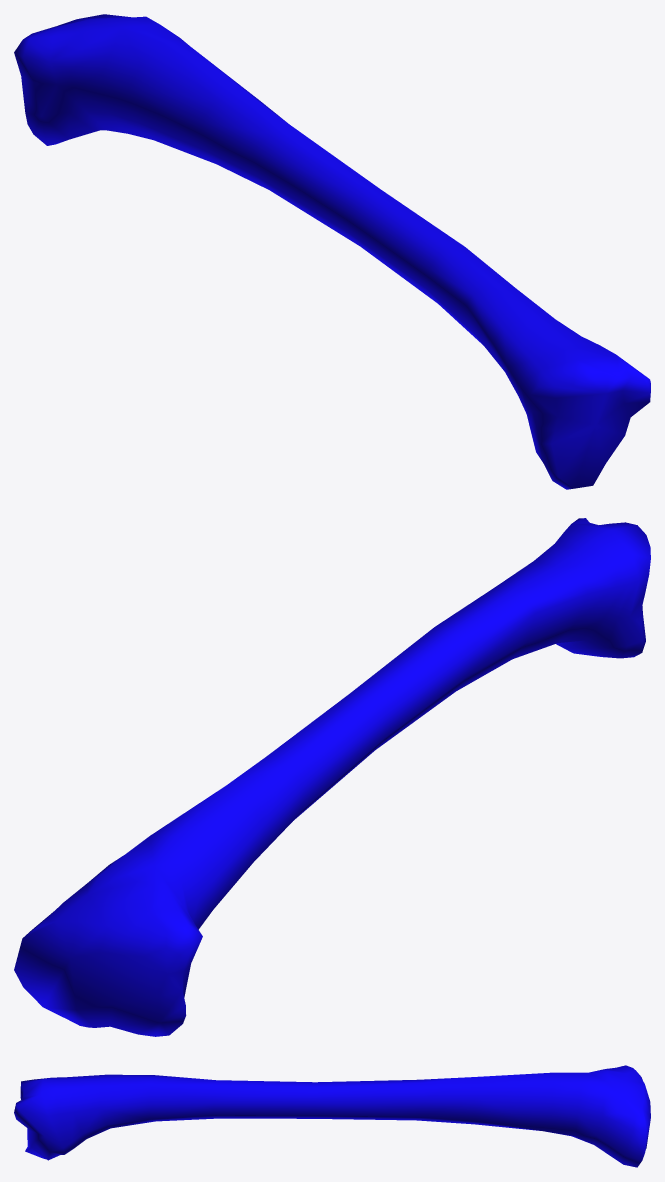
The model's file is SM_R_Tibia.FBX.
The picture shows the model from 3 angles, top to bottom: view 1: azimuth 30°, elevation 25°; view 2: azimuth 150°, elevation 25°; view 3: azimuth 270°, elevation 25°; orthographic projection. The views are drawn at different scales.
Visible parts, largest first — view 1: R_Tibia; view 2: R_Tibia; view 3: R_Tibia.
Boxes of the visible parts, x1,y1,x2,y2 form: R_Tibia: [14, 14, 650, 489]; R_Tibia: [14, 518, 650, 1036]; R_Tibia: [14, 1065, 650, 1167].
Bounding box in the file's own units: 7.79 × 6.32 × 43.7.
